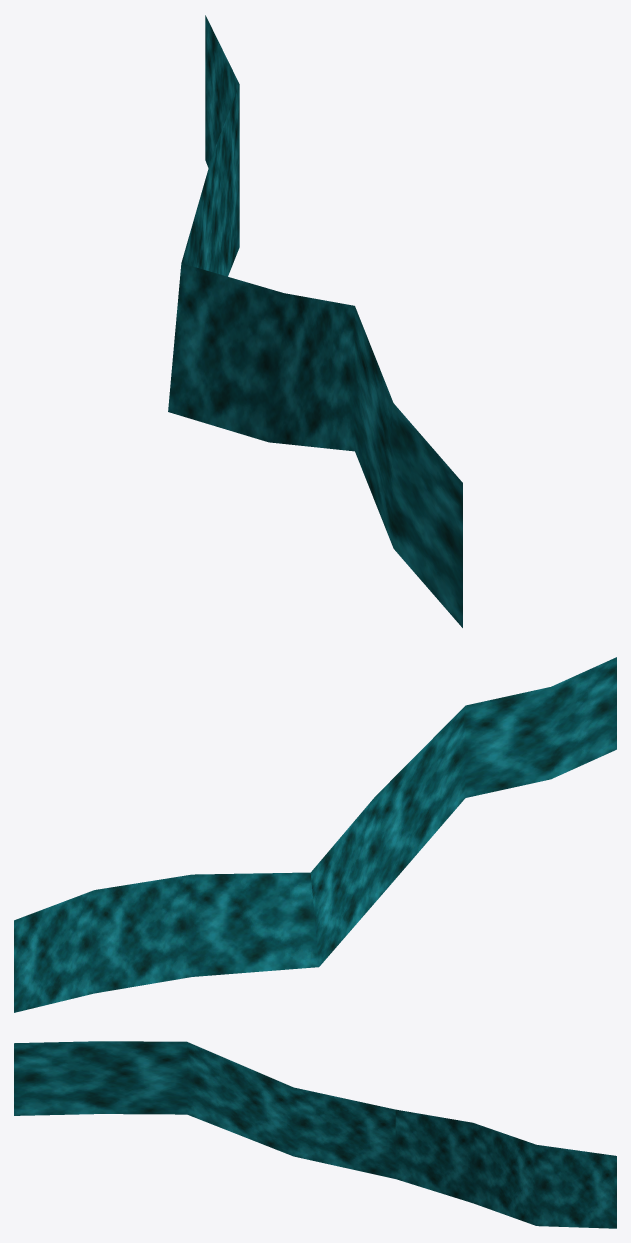
File: MIRKWOOD_FOG_B01.fbx
3 views of the same model, one above another, from view 1: azimuth 30°, elevation 25°; view 2: azimuth 150°, elevation 25°; view 3: azimuth 270°, elevation 25° (orthographic). The views are drawn at different scales.
Parts seen in each view (by area): view 1: MIRKWOOD_FOG_B01; view 2: MIRKWOOD_FOG_B01; view 3: MIRKWOOD_FOG_B01.
Boxes of the visible parts, x1,y1,x2,y2 form: MIRKWOOD_FOG_B01: (168, 15, 462, 627); MIRKWOOD_FOG_B01: (14, 657, 616, 1012); MIRKWOOD_FOG_B01: (14, 1041, 616, 1228).
Size of the model in its own units: 236623 by 172946 by 715726.
Materials: 1 (1 with a texture image).
